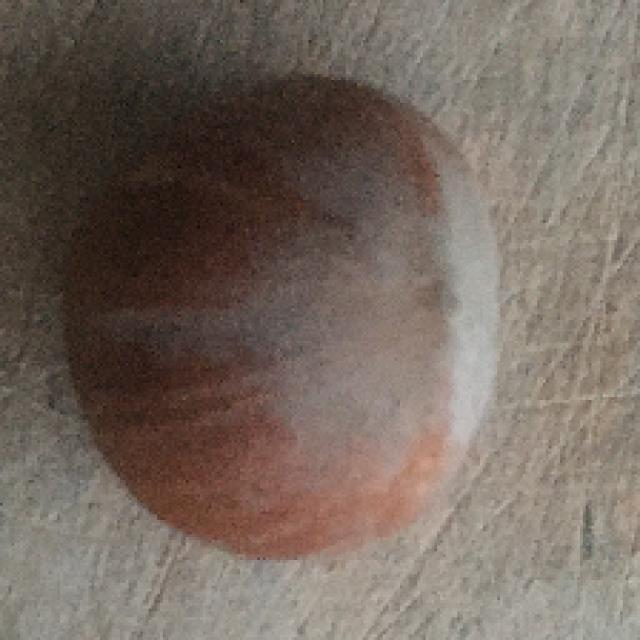qualityHazelnut: (57, 71, 502, 562)
